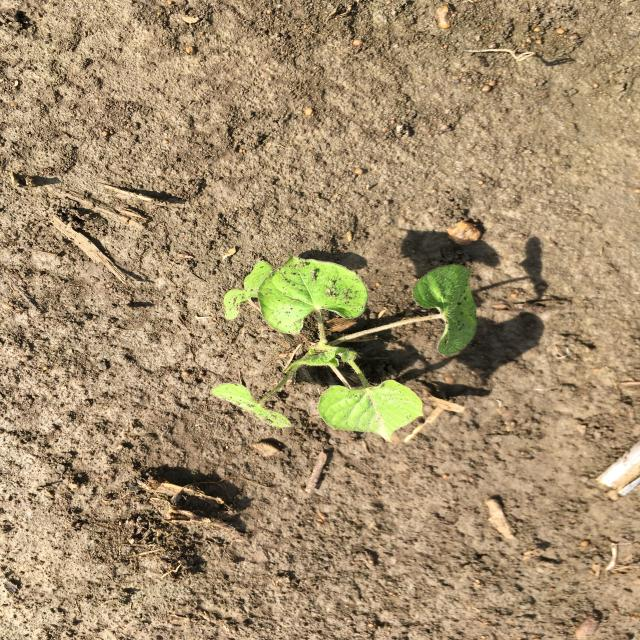MorningGlory: (205, 254, 482, 446)
